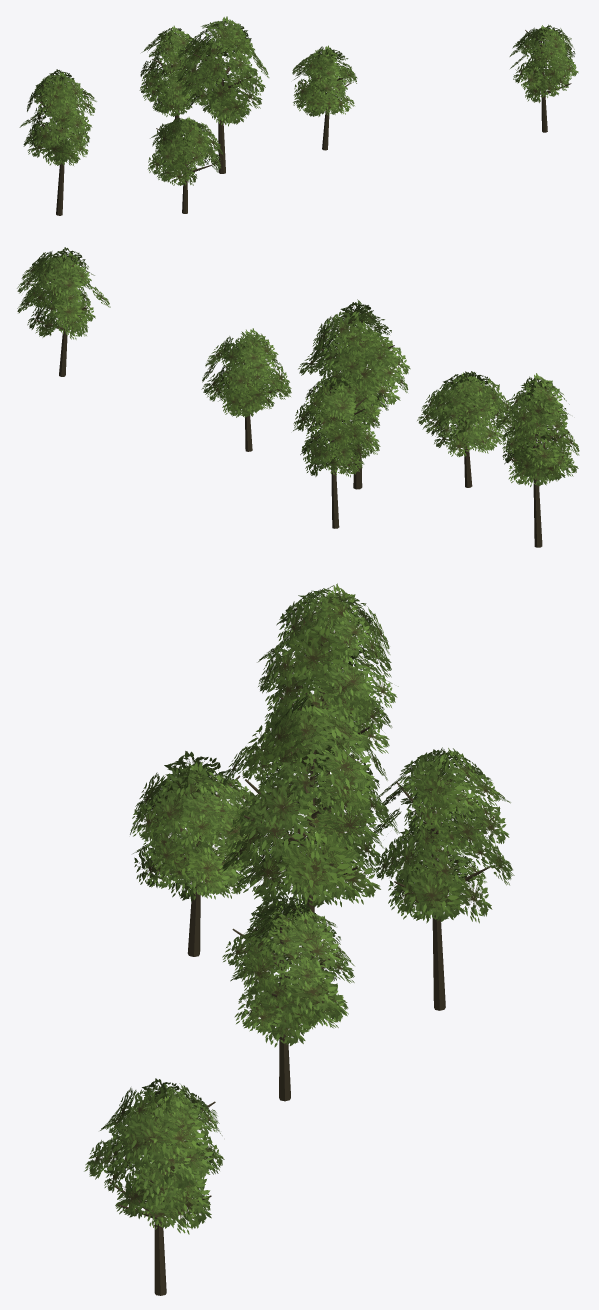
Rendered from TRB8-FOREST-CHUNK-0-4.glb.
The picture shows the model from 3 angles, top to bottom: view 1: azimuth 30°, elevation 25°; view 2: azimuth 150°, elevation 25°; view 3: azimuth 270°, elevation 25°; orthographic projection. The views are drawn at different scales.
Parts seen in each view (by area): view 1: TRB8-FOREST-CHUNK-0-4; view 2: TRB8-FOREST-CHUNK-0-4; view 3: TRB8-FOREST-CHUNK-0-4.
Part boxes in pixels (x1=…): TRB8-FOREST-CHUNK-0-4: x1=19, y1=16, x2=578, y2=215; TRB8-FOREST-CHUNK-0-4: x1=17, y1=247, x2=579, y2=547; TRB8-FOREST-CHUNK-0-4: x1=84, y1=583, x2=514, y2=1295.
Size of the model in its own units: 19.94 by 6.11 by 7.52.
2 materials, 1 textured.
